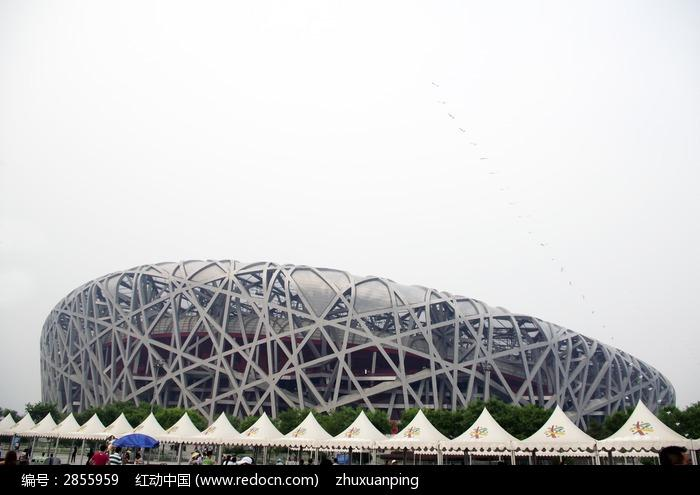buildings: (46, 261, 686, 451)
